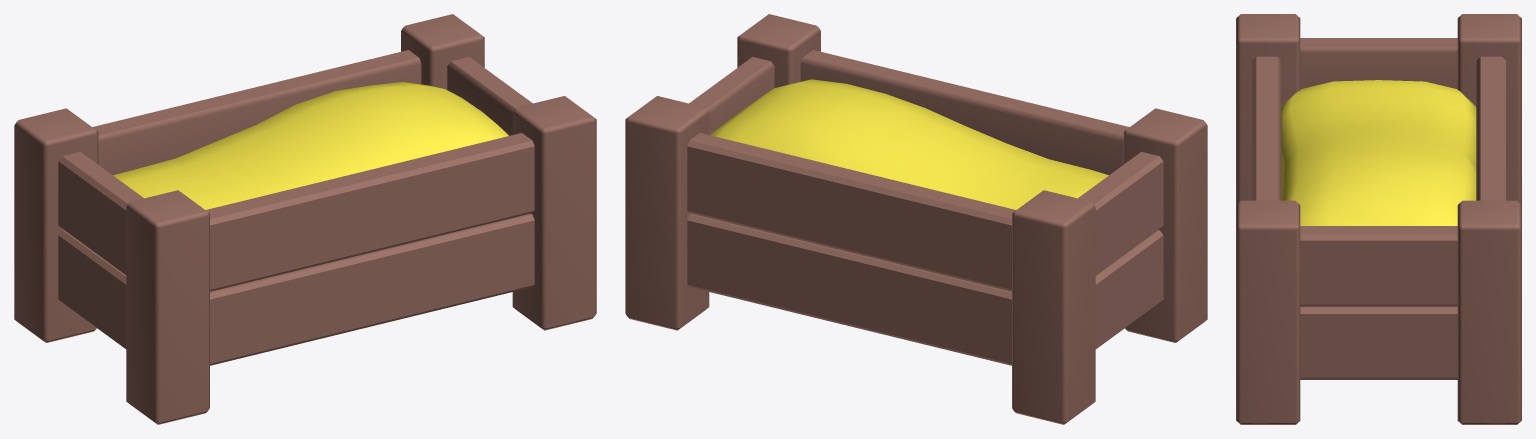
File: Farm_15_Feeder_with_Food_1.glb
3 views of the same model, side by side, from view 1: azimuth 30°, elevation 25°; view 2: azimuth 150°, elevation 25°; view 3: azimuth 270°, elevation 25° (orthographic).
Parts seen in each view (by area): view 1: Farm_15_Feeder_with_Food_1; view 2: Farm_15_Feeder_with_Food_1; view 3: Farm_15_Feeder_with_Food_1.
Boxes of the visible parts, x1,y1,x2,y2 form: Farm_15_Feeder_with_Food_1: (14, 14, 596, 424); Farm_15_Feeder_with_Food_1: (625, 14, 1207, 424); Farm_15_Feeder_with_Food_1: (1236, 14, 1521, 424).
Bounding box in the file's own units: 1.08 × 0.4747 × 0.6116.
Materials: 1 (1 with a texture image).
